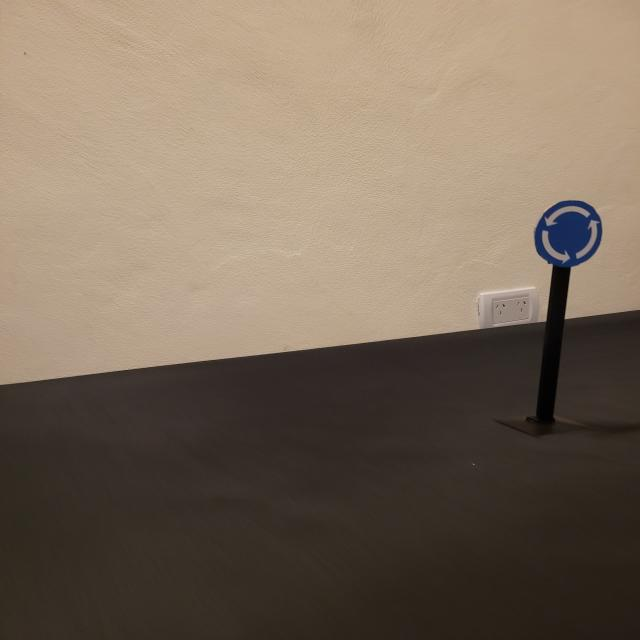round_about: (534, 200, 604, 268)
